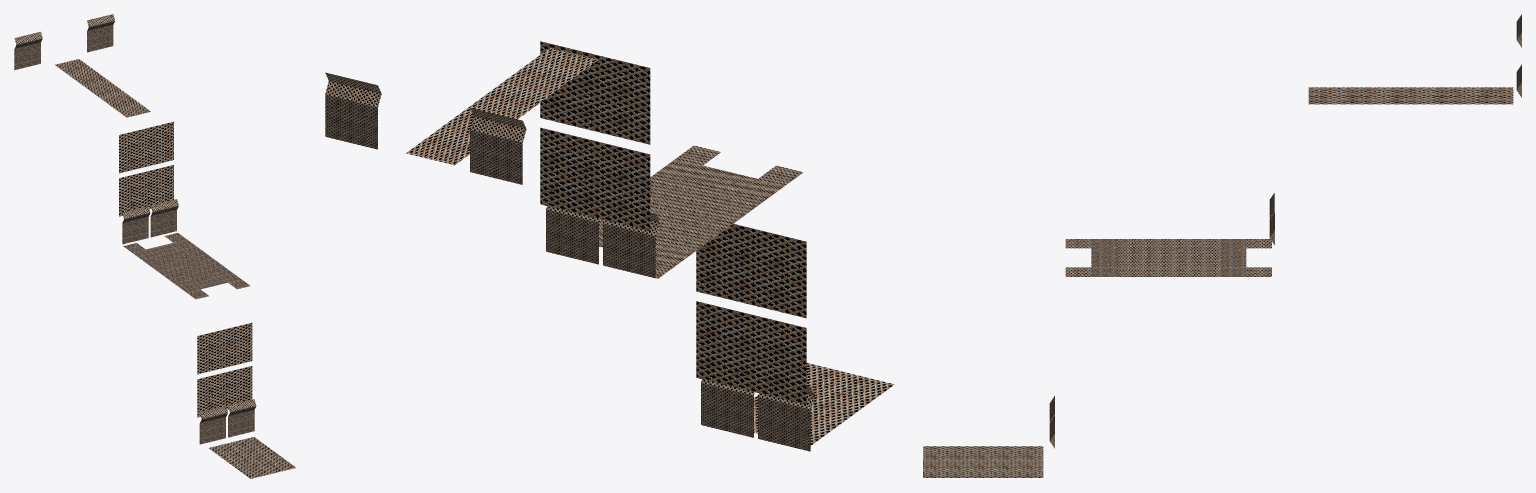
Rendered from Bullet Station 58.fbx.
3 renders of one model, left to right at view 1: azimuth 30°, elevation 25°; view 2: azimuth 150°, elevation 25°; view 3: azimuth 270°, elevation 25°, orthographic. The views are drawn at different scales.
Parts seen in each view (by area): view 1: STG08_PNW_08; view 2: STG08_PNW_08; view 3: STG08_PNW_08.
Part boxes in pixels (x1,y1,x2,y2): STG08_PNW_08: [14, 14, 295, 478]; STG08_PNW_08: [325, 41, 894, 451]; STG08_PNW_08: [923, 14, 1521, 477].
Bounding box in the file's own units: 21559 × 60967 × 79759.
